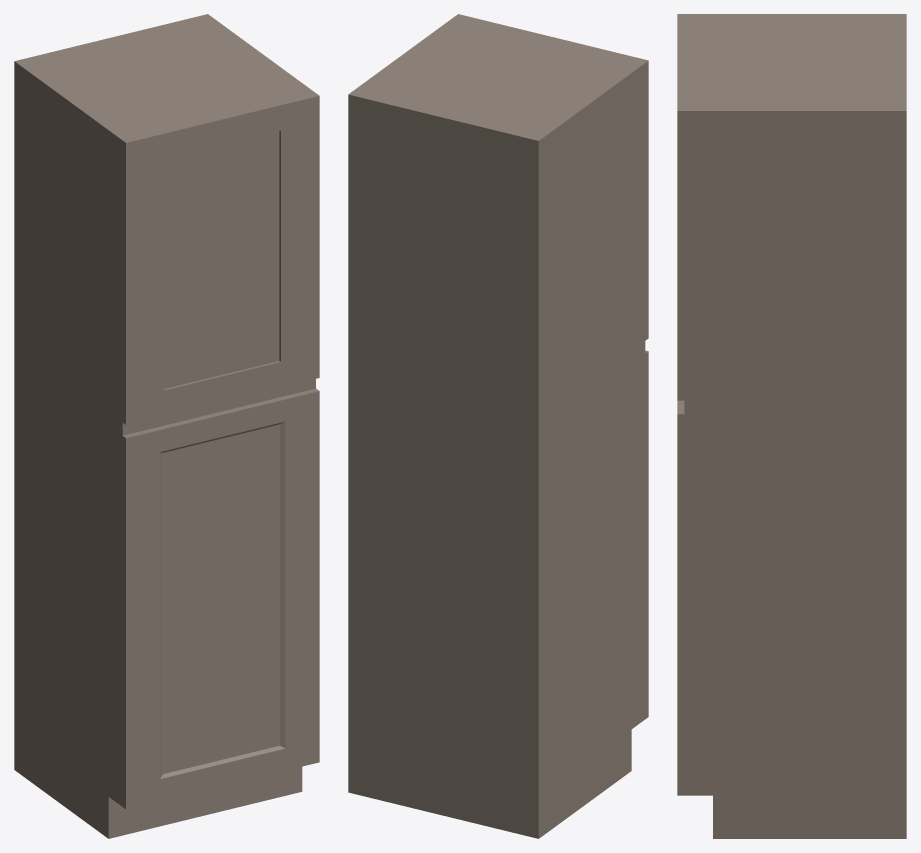
File: Utility-Cabinet-24-Deep_std_001_W24in_1D.glb
3 views of the same model, side by side, from view 1: azimuth 30°, elevation 25°; view 2: azimuth 150°, elevation 25°; view 3: azimuth 270°, elevation 25° (orthographic). The views are drawn at different scales.
Parts seen in each view (by area): view 1: Utility-Cabinet-24-Deep.std.001_W24in_1D; view 2: Utility-Cabinet-24-Deep.std.001_W24in_1D; view 3: Utility-Cabinet-24-Deep.std.001_W24in_1D.
Part boxes in pixels (x1,y1,x2,y2): Utility-Cabinet-24-Deep.std.001_W24in_1D: (14, 14, 319, 838); Utility-Cabinet-24-Deep.std.001_W24in_1D: (348, 14, 648, 838); Utility-Cabinet-24-Deep.std.001_W24in_1D: (677, 14, 906, 838).
Bounding box in the file's own units: 0.6096 × 2.13 × 0.6096.
